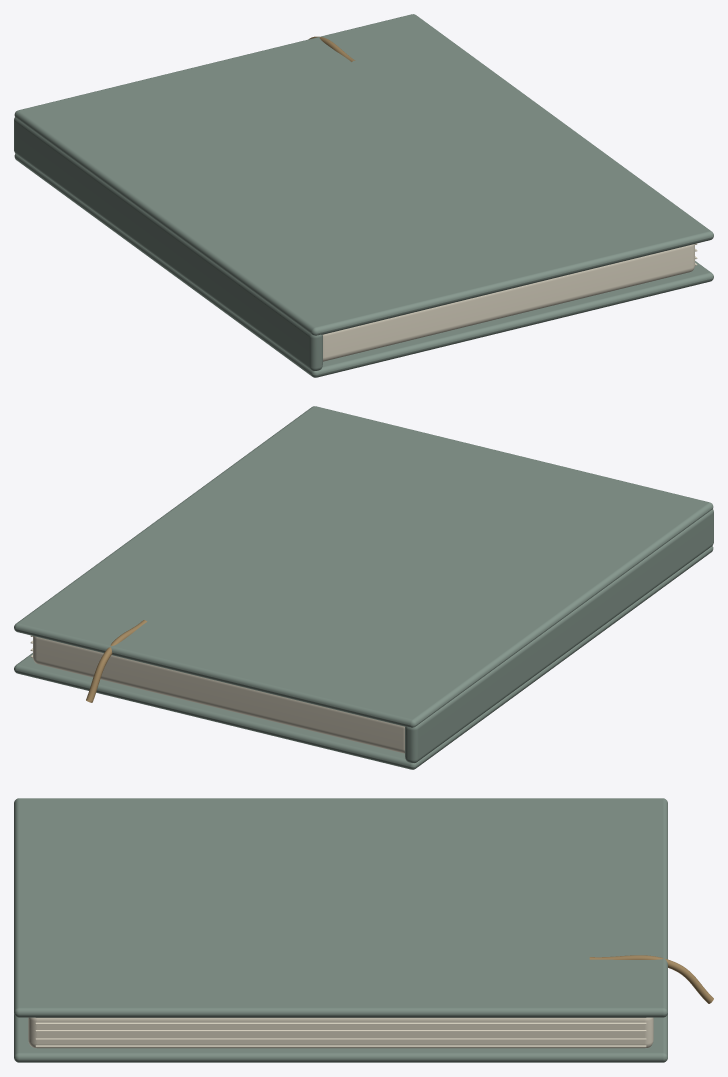
File: reading_book.glb
3 views of the same model, one above another, from view 1: azimuth 30°, elevation 25°; view 2: azimuth 150°, elevation 25°; view 3: azimuth 270°, elevation 25° (orthographic). The views are drawn at different scales.
Visible parts, largest first — view 1: Cloth hardback cover.001, Curved cloth spine, Bound pages, Cloth hardback cover; view 2: Cloth hardback cover.001, Curved cloth spine, Bound pages, Cloth hardback cover, Woven bookmark; view 3: Cloth hardback cover.001, Bound pages, Cloth hardback cover, Layered paper edge, Layered paper edge.001, Layered paper edge.003, Layered paper edge.002, Woven bookmark, Layered paper edge.004.
Part boxes in pixels (box(x1,y1,x2,y2)): Cloth hardback cover.001: box(14, 14, 713, 335); Curved cloth spine: box(14, 117, 322, 371); Bound pages: box(323, 244, 694, 361); Cloth hardback cover: box(14, 154, 713, 377); Cloth hardback cover.001: box(14, 406, 713, 727); Curved cloth spine: box(405, 509, 713, 763); Bound pages: box(33, 636, 404, 753); Cloth hardback cover: box(14, 546, 713, 769); Woven bookmark: box(86, 620, 147, 702); Cloth hardback cover.001: box(14, 798, 667, 1017); Bound pages: box(28, 1017, 653, 1048); Cloth hardback cover: box(14, 1014, 667, 1062); Layered paper edge: box(35, 1045, 646, 1047); Layered paper edge.001: box(35, 1038, 646, 1040); Layered paper edge.003: box(35, 1022, 646, 1024); Layered paper edge.002: box(35, 1030, 646, 1031); Woven bookmark: box(589, 955, 713, 1003); Layered paper edge.004: box(36, 1017, 645, 1017).
Size of the model in its own units: 0.387 by 0.0485 by 0.5352.
